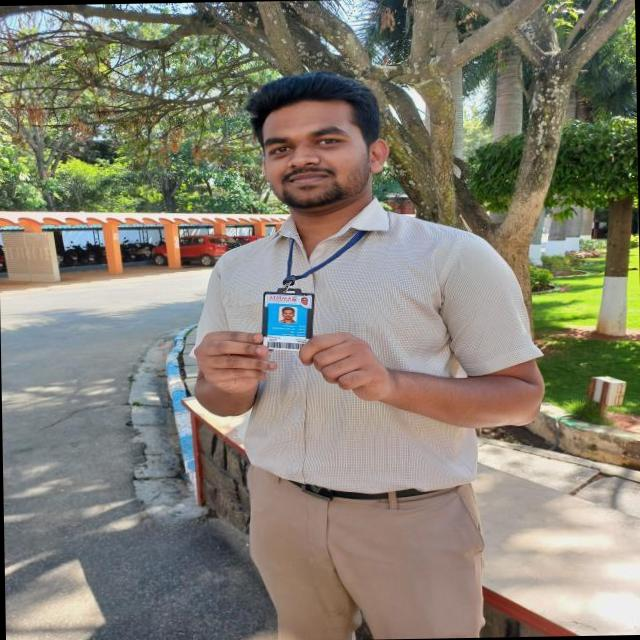id_card: (254, 231, 360, 352)
